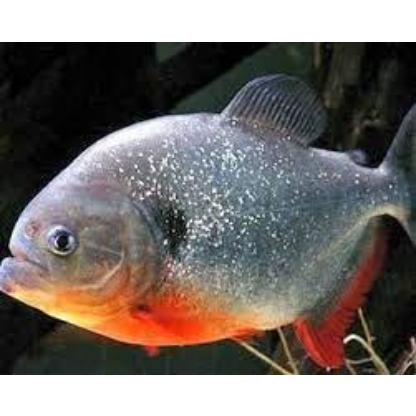ikan-pacu: (0, 85, 410, 339)
